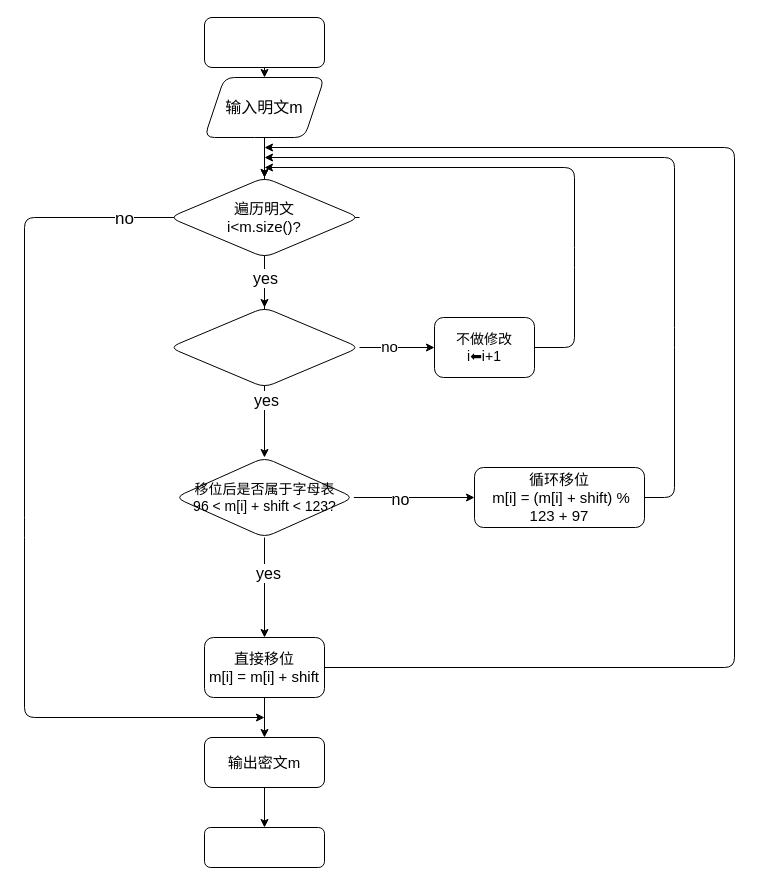
Image size: 760x885. Some labels were removed from this diagram. The centre of each missing label's shape, as x and y in pixels:
end: (264,847)
start: (264,42)
输入是否为字母 96 < m[i] < 123?: (264,347)
